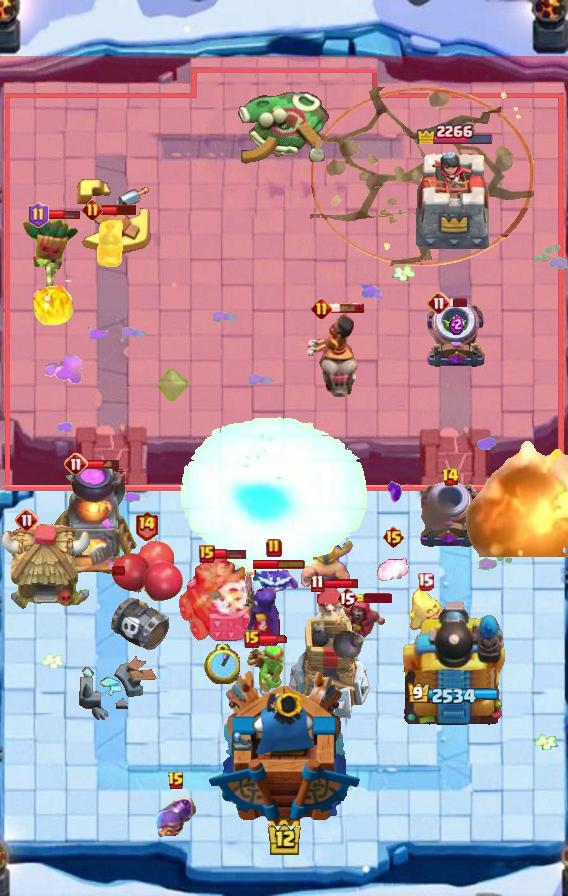axe: (238, 562, 284, 650)
bat-evolution: (408, 587, 442, 631)
bowler: (335, 595, 387, 649)
electro-spirit: (449, 313, 463, 335)
elite-barbarian: (303, 313, 365, 407)
elixir: (204, 644, 240, 684)
emote: (254, 558, 307, 570), (102, 203, 139, 217), (46, 209, 82, 221), (329, 302, 365, 314), (87, 458, 122, 470), (324, 579, 361, 590), (214, 548, 247, 560), (356, 593, 392, 603), (258, 634, 290, 644), (449, 297, 469, 308)
executioner: (93, 215, 125, 273)
firecracker-evolution: (155, 794, 197, 837)
giant-snowball: (247, 644, 287, 698)
goblin-barrel: (20, 216, 80, 292)
goblin-cage: (424, 300, 488, 370), (418, 480, 482, 550)
goblin-giant: (298, 540, 354, 594)
golem: (177, 552, 267, 644)
guard: (310, 87, 534, 266)
hunter: (50, 467, 138, 577)
ice-spirit-evolution: (375, 554, 411, 586)
king-tower: (207, 669, 361, 826)
mega-knight: (173, 413, 370, 574)
prince: (0, 522, 94, 612)
queen-tower: (410, 144, 496, 255)
royal-recruit-evolution: (108, 539, 184, 651)
selected: (408, 683, 501, 707), (414, 118, 494, 144)
skeleton-king-skill: (158, 367, 190, 403)
spear-goblin: (248, 553, 300, 597)
text: (133, 511, 158, 542), (427, 291, 451, 315), (64, 452, 88, 476), (15, 508, 39, 532), (383, 525, 406, 549), (27, 202, 48, 228), (336, 586, 358, 610), (82, 199, 103, 221), (311, 297, 332, 319), (440, 467, 459, 487), (167, 771, 185, 791), (417, 573, 435, 592), (266, 538, 282, 558), (199, 545, 215, 563), (244, 630, 260, 648), (311, 575, 325, 594)
tower-bar: (397, 595, 509, 731)
valkyrie: (452, 429, 568, 557), (28, 273, 80, 329)
zappy: (287, 585, 374, 723)
